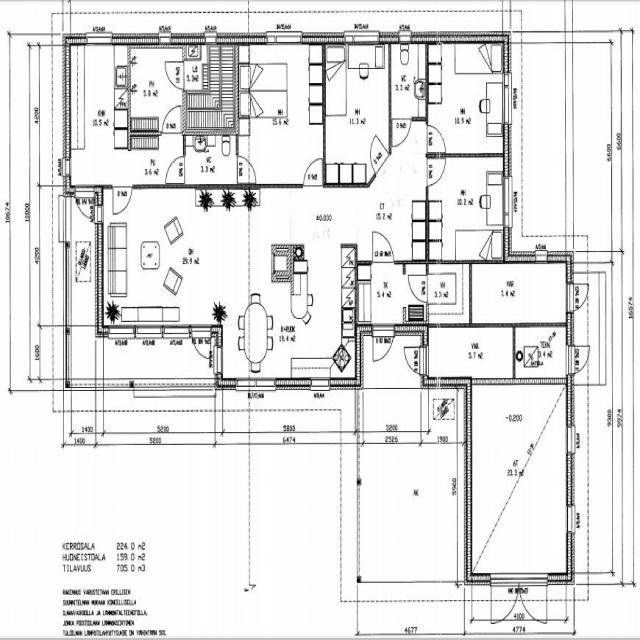door: (519, 573, 547, 626), (491, 573, 519, 626), (363, 135, 390, 175), (372, 324, 394, 367), (372, 228, 394, 264), (566, 346, 594, 374), (192, 325, 211, 365), (566, 284, 593, 311), (402, 347, 429, 374), (76, 185, 94, 224), (164, 156, 186, 184), (162, 104, 181, 136), (113, 185, 132, 216), (392, 117, 411, 148), (236, 156, 257, 184), (408, 275, 429, 302), (426, 158, 446, 186), (304, 157, 322, 188), (164, 62, 185, 88), (426, 126, 446, 152)
